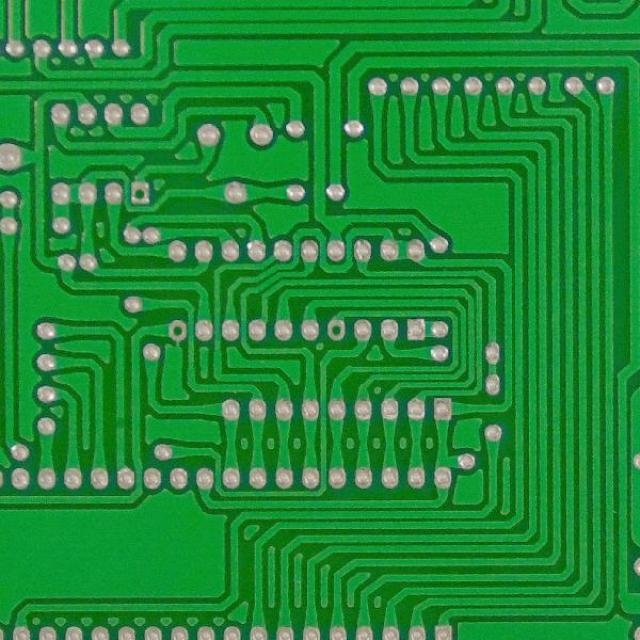Missing_Hole: (127, 179, 150, 207), (324, 316, 347, 342), (165, 316, 188, 342)
